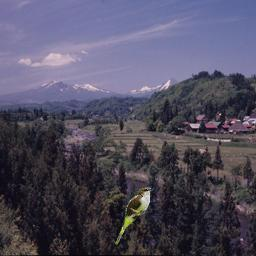Cuckoo: (115, 187, 154, 245)
